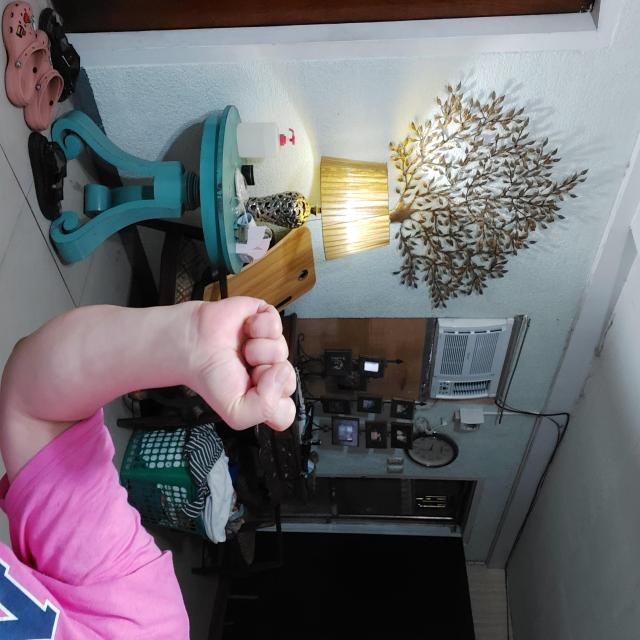S: (296, 343, 433, 450)
